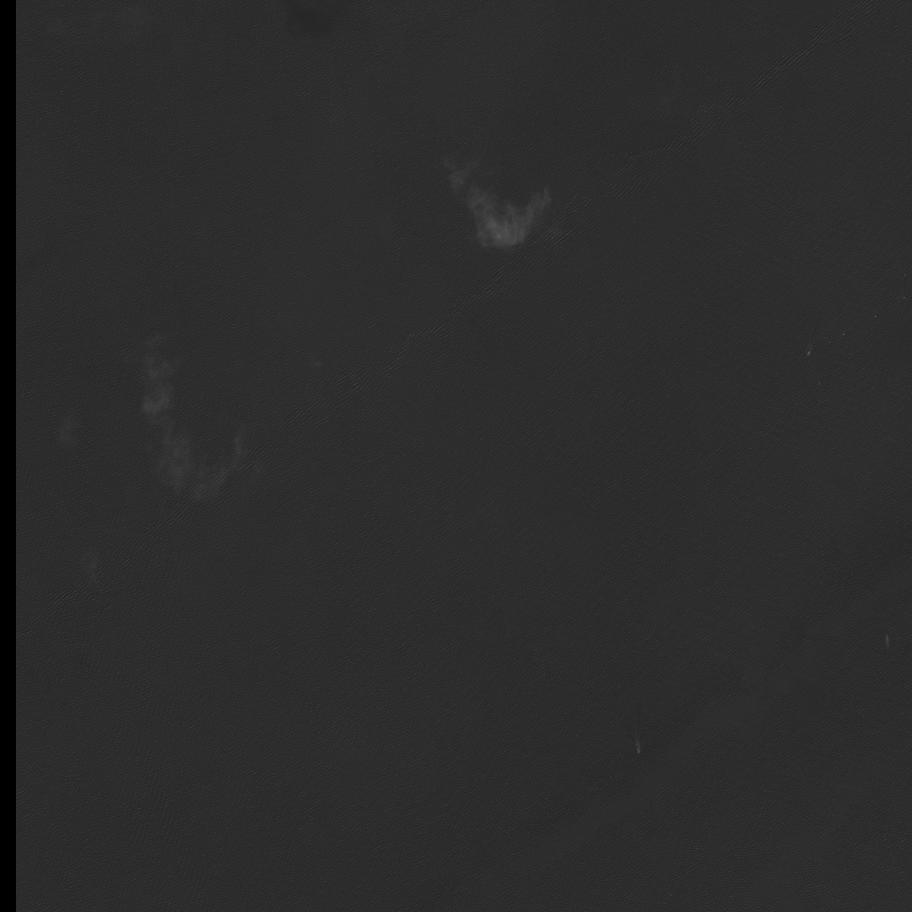ship: (806, 345, 812, 357), (886, 635, 889, 644), (637, 745, 640, 754)
